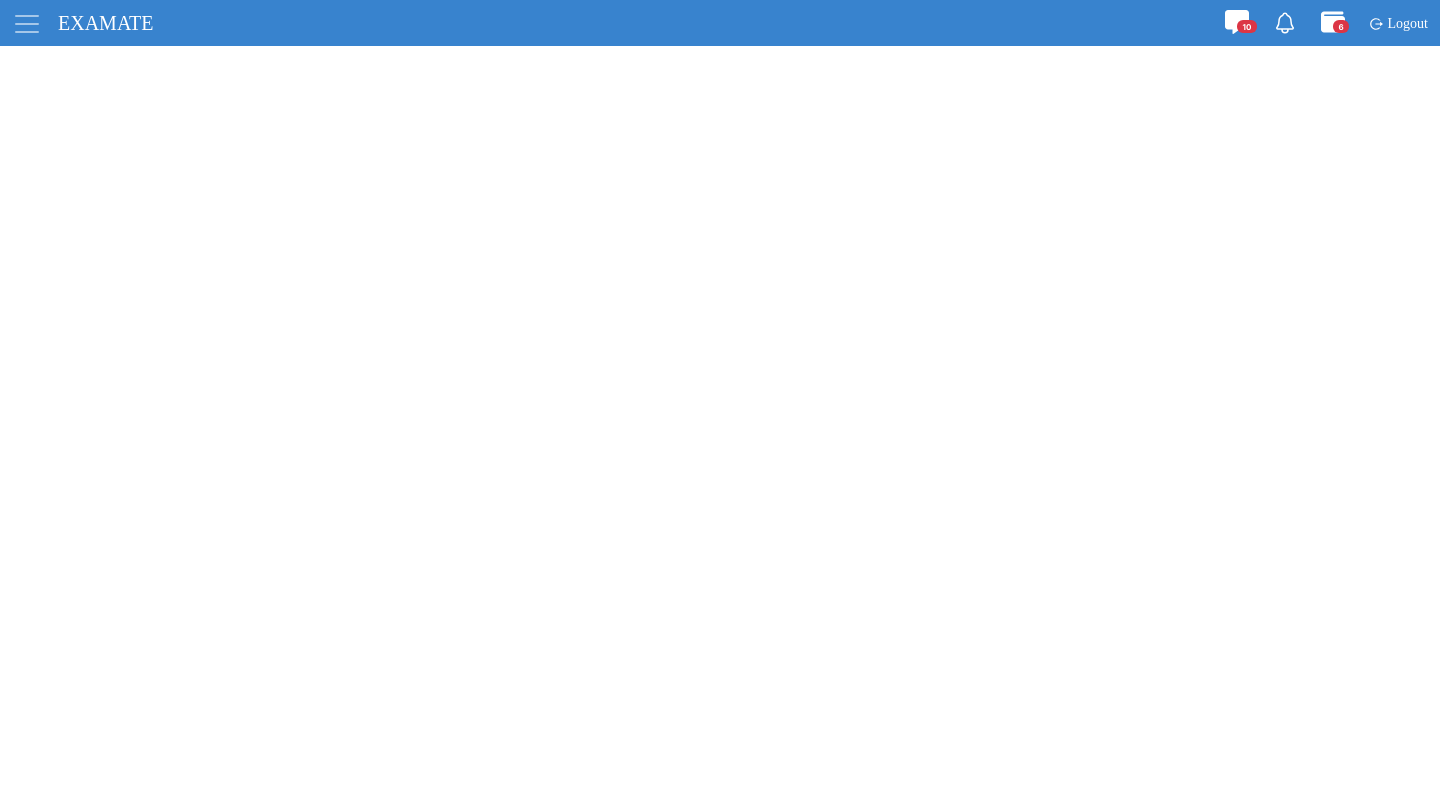
it: Navbar component › renders navbar with badge counts correctly
Step 1. Click the picture with test id "wallet-icon" → (1332, 22), box [1320,10,1344,34]
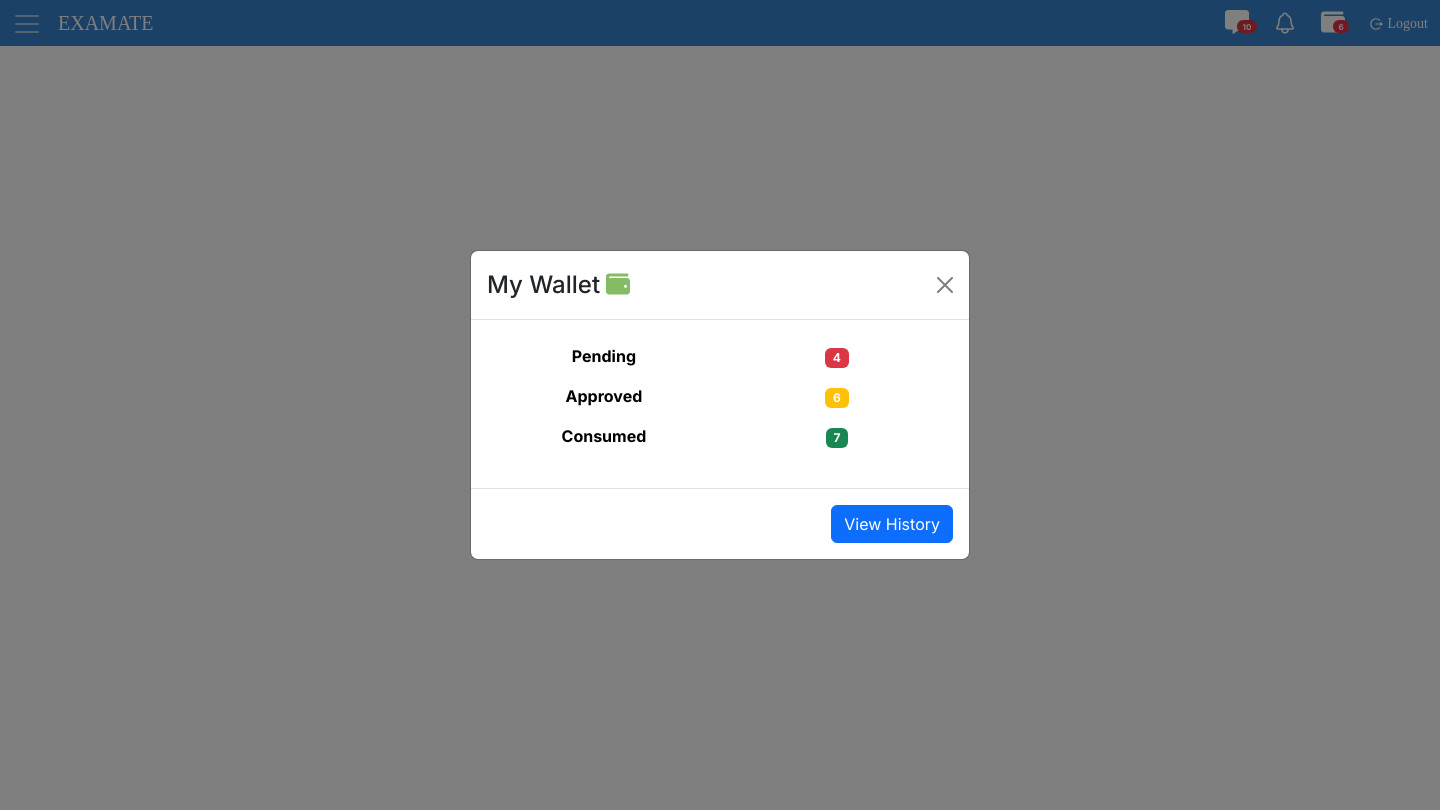
Now the cell "4" is shown, box [721,336,953,376]
Now the cell "6" is shown, box [721,376,953,416]
Now the cell "7" is shown, box [721,416,953,456]
